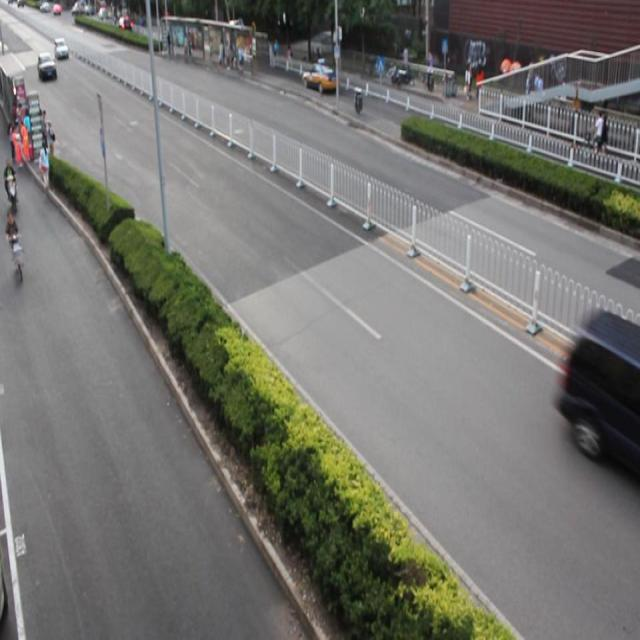car: (556, 308, 640, 471), (302, 60, 338, 95)
